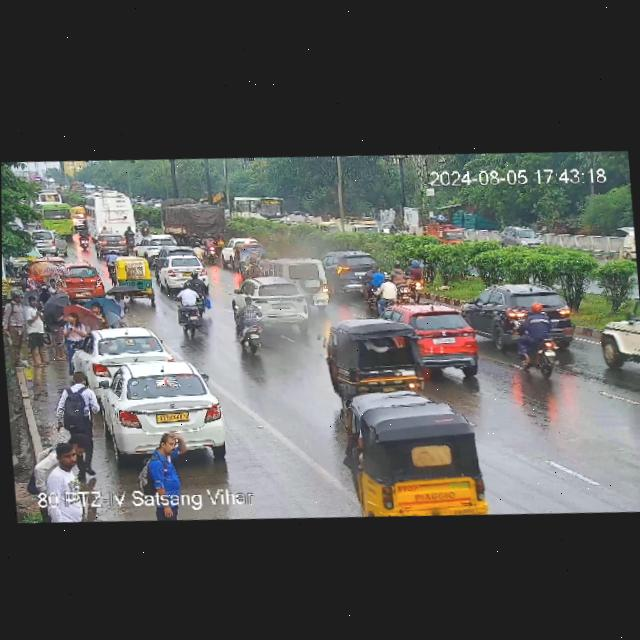bus: (82, 188, 139, 243), (33, 195, 74, 238), (229, 192, 286, 222)
car: (342, 380, 486, 519), (89, 351, 225, 467), (323, 312, 429, 404), (459, 276, 574, 356), (379, 296, 482, 378), (71, 319, 177, 390), (235, 271, 312, 325), (594, 290, 640, 378), (323, 248, 380, 296), (267, 256, 327, 300), (109, 253, 155, 305), (54, 260, 105, 306), (156, 251, 209, 289), (422, 218, 469, 252), (229, 240, 269, 275), (135, 232, 181, 262), (29, 227, 69, 259), (501, 225, 542, 251), (99, 230, 129, 259)
motorcycle: (514, 302, 559, 380), (233, 296, 267, 355), (174, 279, 205, 340), (364, 256, 396, 311), (404, 258, 426, 300), (203, 233, 220, 266), (126, 226, 134, 251)
person: (27, 439, 105, 526), (133, 428, 192, 521), (56, 370, 104, 468), (2, 290, 49, 368), (58, 311, 98, 367)
truck: (157, 191, 230, 246), (338, 216, 386, 245)
